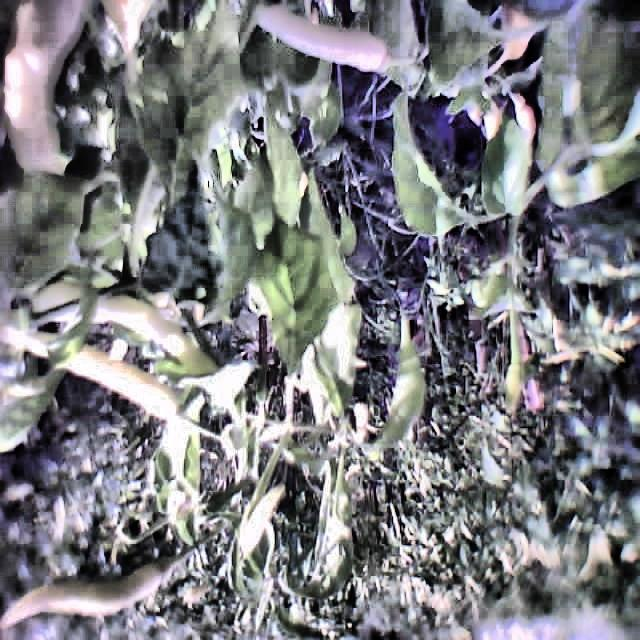Cabai: (14, 322, 218, 442), (5, 548, 195, 623), (255, 0, 408, 93), (383, 333, 454, 466)
